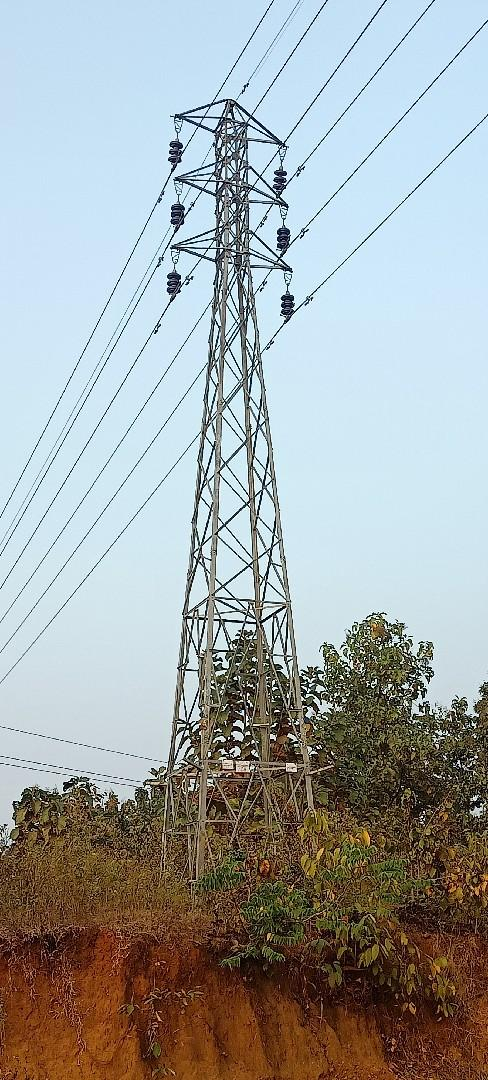GSM Antenna: (154, 90, 315, 753)
